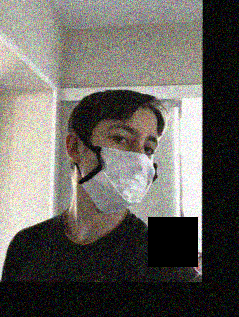with_mask: (78, 120, 158, 215)
